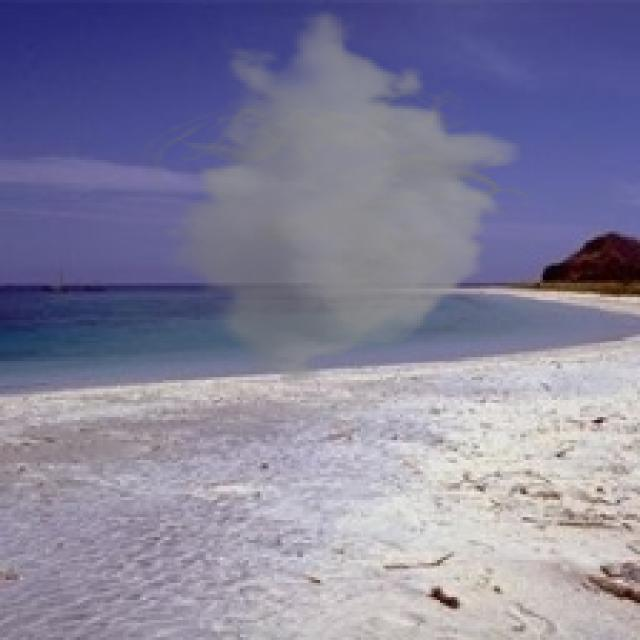smoke: (134, 8, 537, 386)
